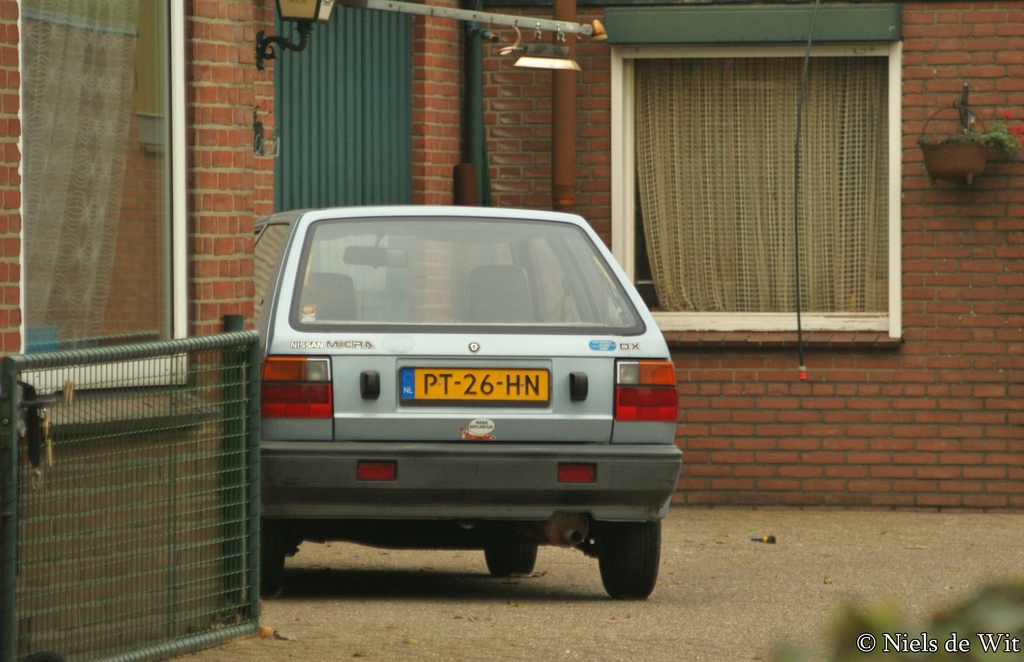license plate: (399, 370, 548, 404)
